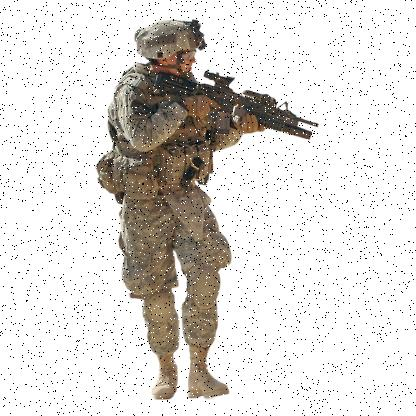gun: (130, 62, 326, 158)
